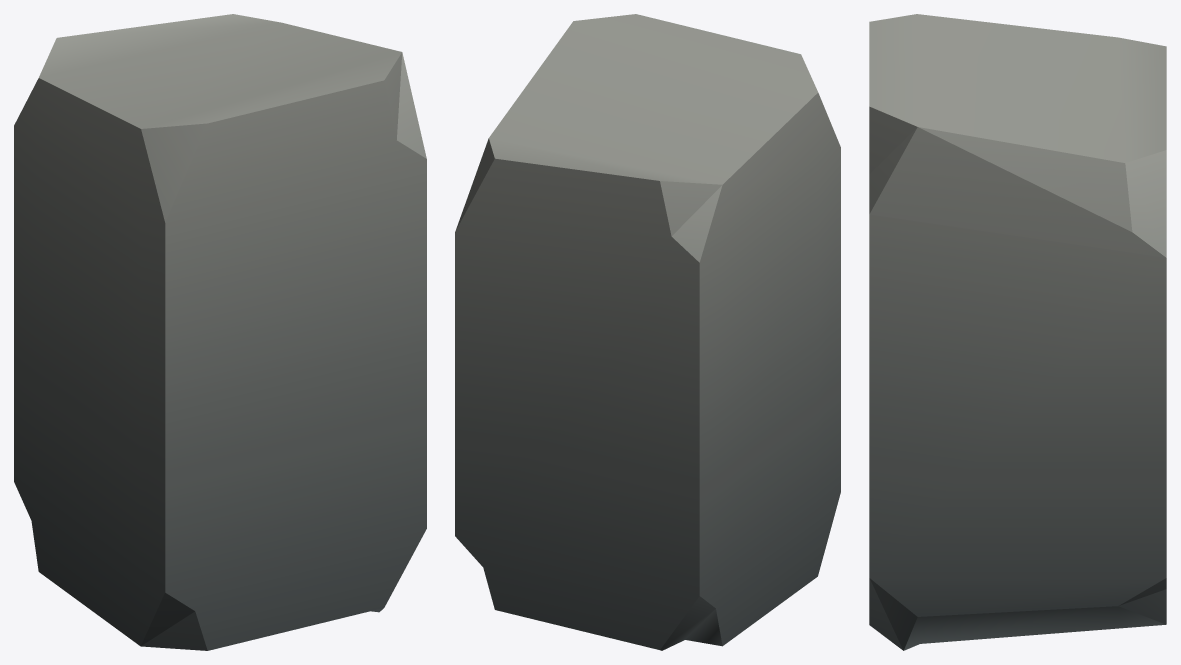
Rendered from Big_Maps_Rocks.fbx.
The picture shows the model from 3 angles, left to right: view 1: azimuth 30°, elevation 25°; view 2: azimuth 150°, elevation 25°; view 3: azimuth 270°, elevation 25°; orthographic projection. The views are drawn at different scales.
Visible parts, largest first — view 1: Big_Maps_Rocks; view 2: Big_Maps_Rocks; view 3: Big_Maps_Rocks.
Part boxes in pixels (x1,y1,x2,y2): Big_Maps_Rocks: (14, 14, 426, 650); Big_Maps_Rocks: (455, 14, 840, 650); Big_Maps_Rocks: (869, 14, 1166, 650).
Size of the model in its own units: 10 by 20 by 10.
